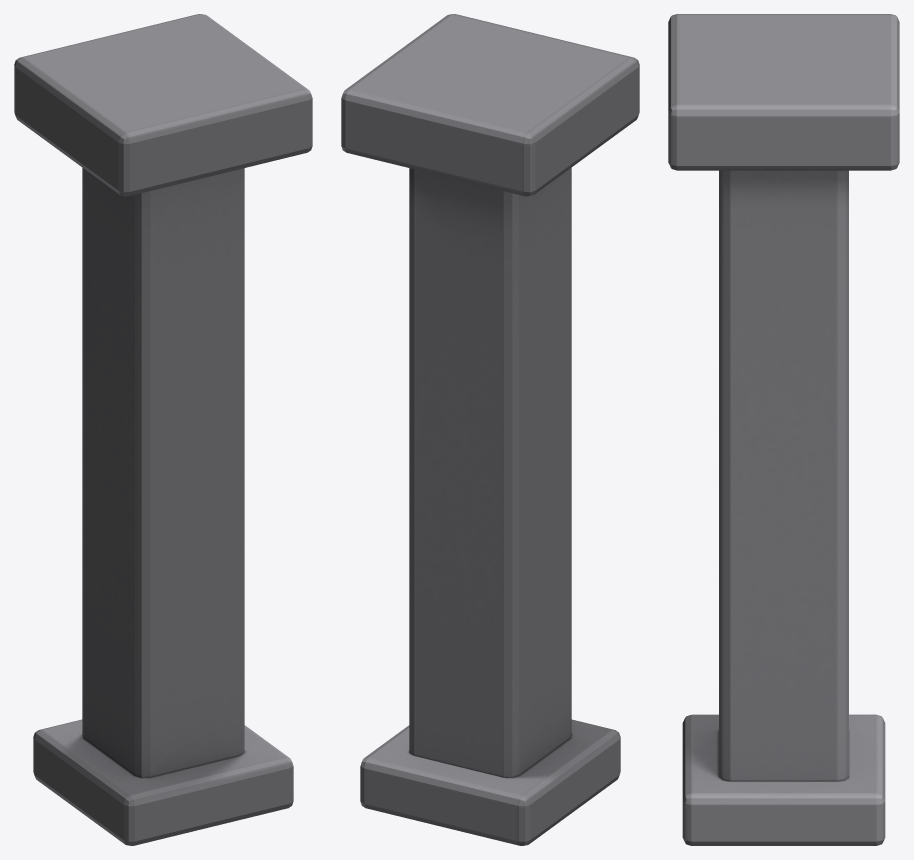
File: pillar.glb
3 renders of one model, left to right at view 1: azimuth 30°, elevation 25°; view 2: azimuth 150°, elevation 25°; view 3: azimuth 270°, elevation 25°, orthographic. The views are drawn at different scales.
Parts seen in each view (by area): view 1: pillar; view 2: pillar; view 3: pillar.
Boxes of the visible parts, x1,y1,x2,y2 form: pillar: (14,14,312,845); pillar: (341,14,639,845); pillar: (668,14,899,845).
Bounding box in the file's own units: 1.6 × 5.7 × 1.6.
Materials: 1 (1 with a texture image).
